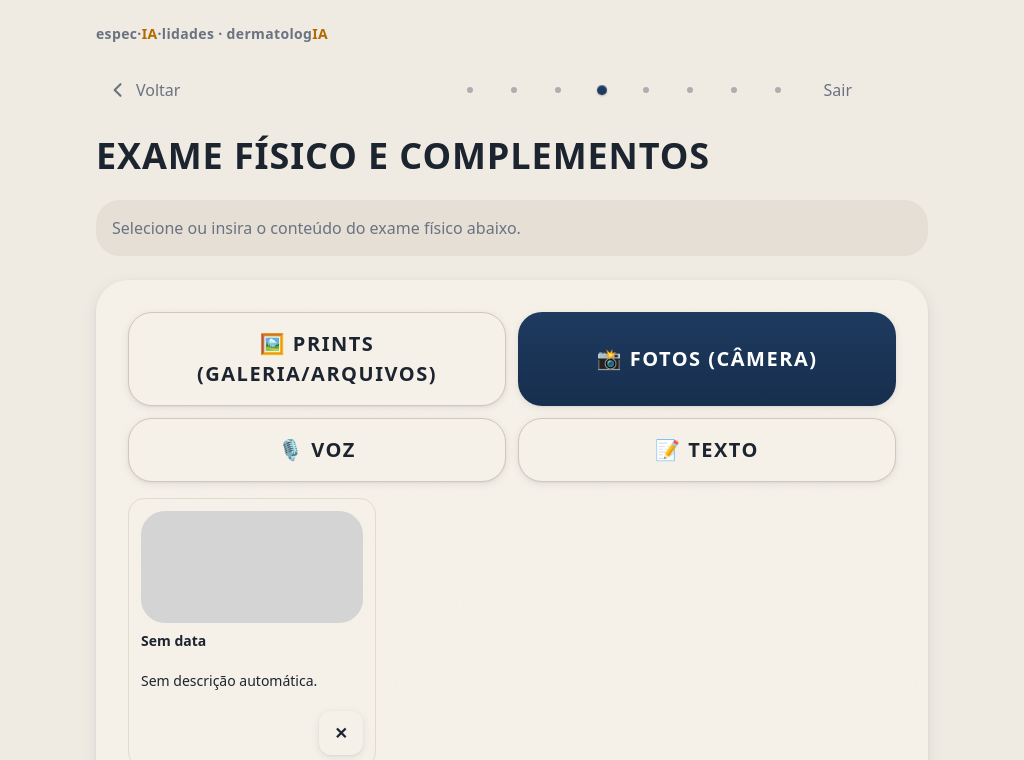
Test case: exame físico e complementos › falha ao remover mantém a imagem e avisa
The width and height of the screenshot is (1024, 760).
Click the button named "Remover a.jpg". click: (341, 733)
box: [319,711,363,755]
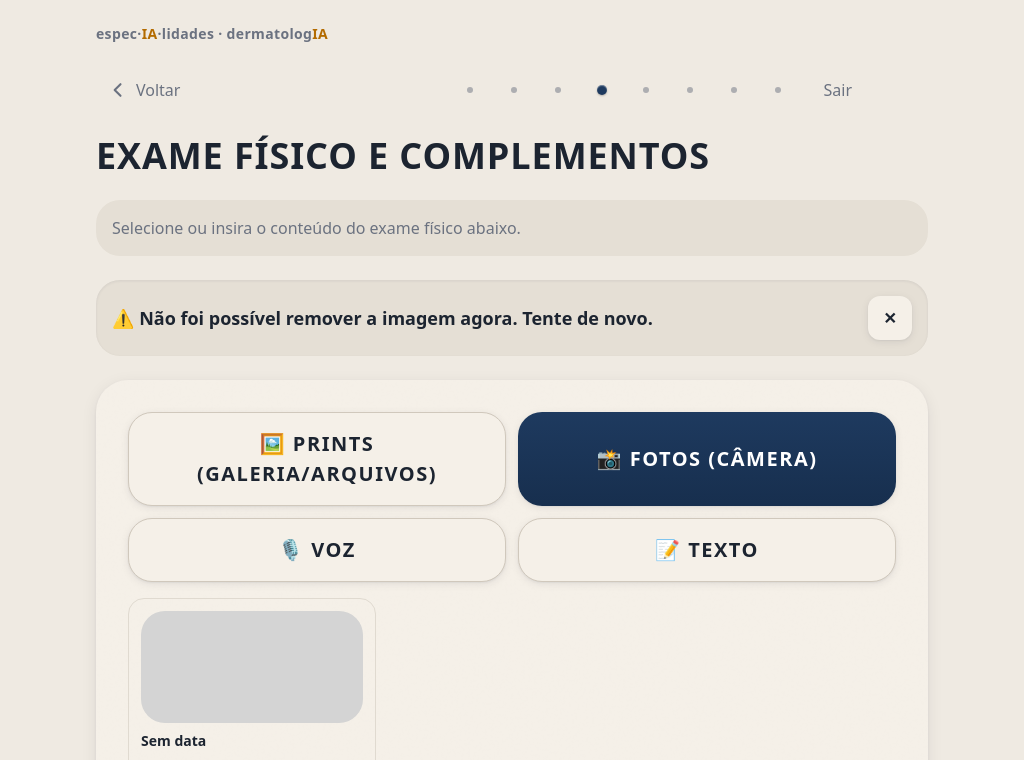
Now the text "⚠️ Não foi possível remover a imagem agora. Tente de novo." is shown, box [112,304,653,332]
